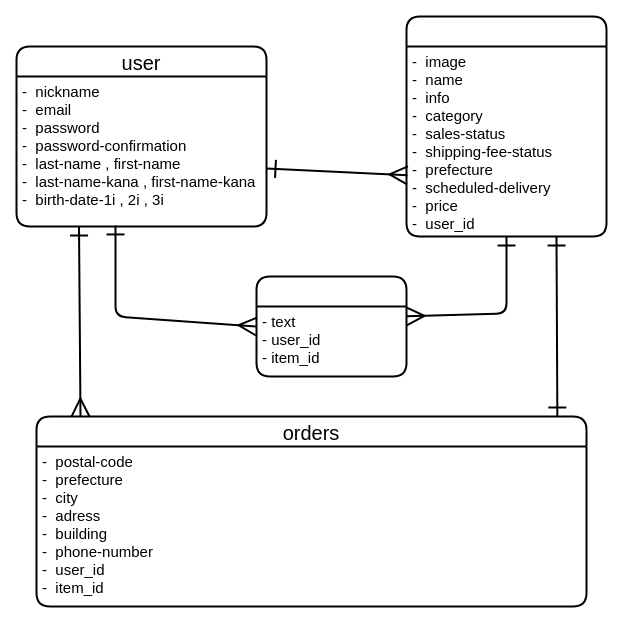
Image size: 623x623. Some labels were removed from this diagram. The shapes that lost their labels are listed below. From the top down, each one's box as (x1, y1, x2, y2) in pixels, then its label:
(405, 15, 607, 237): items
(255, 275, 407, 377): comments
